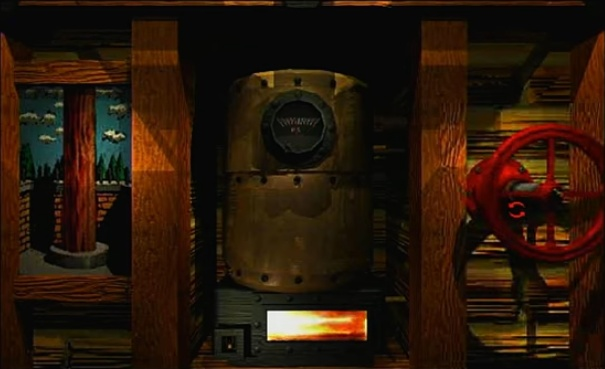Hold: (504, 200, 530, 219)
